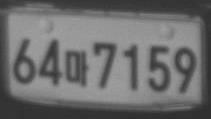1: (121, 44, 144, 90)
4: (38, 38, 63, 86)
5: (147, 45, 172, 91)
6: (12, 38, 36, 84)
7: (93, 41, 118, 89)
9: (174, 46, 197, 94)
마: (65, 48, 89, 87)
